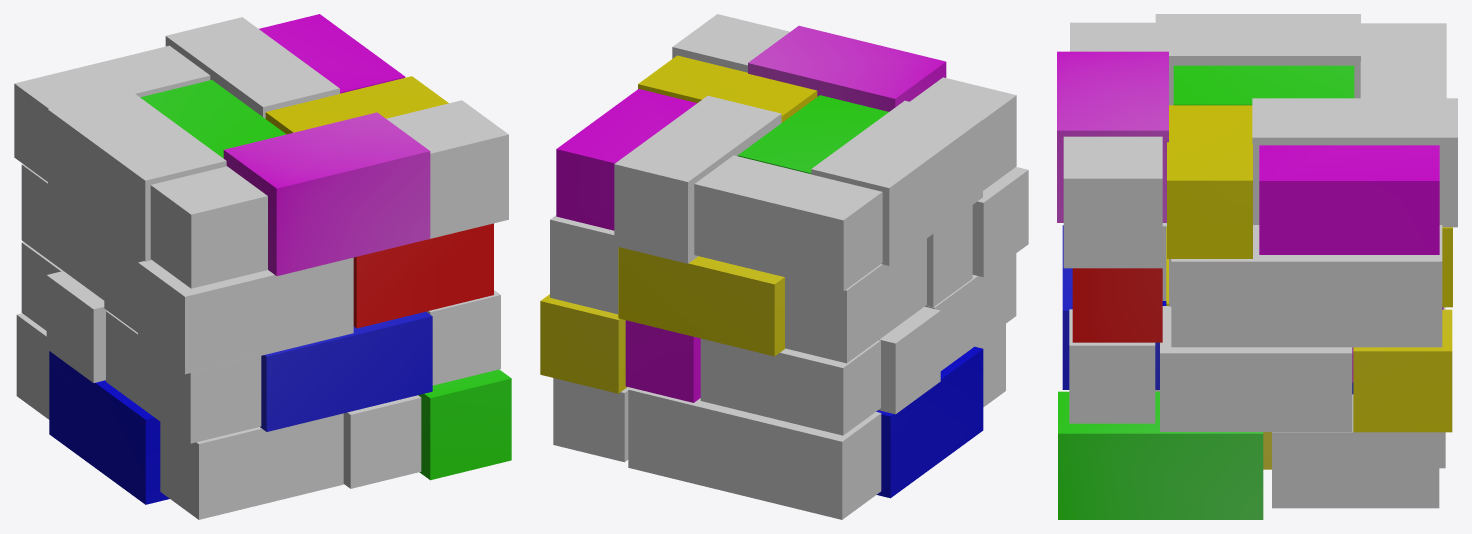
Rendered from Block1.fbx.
3 renders of one model, left to right at view 1: azimuth 30°, elevation 25°; view 2: azimuth 150°, elevation 25°; view 3: azimuth 270°, elevation 25°, orthographic. The views are drawn at different scales.
Parts seen in each view (by area): view 1: Block1.005_low, Block1.002_low, Block1.009_low, Block1.026_low, Block1.028_low, Block1.001_low, Block1.027_low, Block1.006_low, Block1.007_low, Block1.020_low, Block1.010_low, Block1.014_low (+11 smaller); view 2: Block1.024_low, Block1.010_low, Block1.009_low, Block1.014_low, Block1.004_low, Block1.033_low, Block1.011_low, Block1.005_low, Block1.020_low, Block1.016_low, Block1.022_low, Block1.015_low (+11 smaller); view 3: Block1.008_low, Block1.016_low, Block1.018_low, Block1.021_low, Block1.006_low, Block1_low, Block1.023_low, Block1.014_low, Block1.009_low, Block1.005_low, Block1.022_low, Block1.017_low (+6 smaller).
Part boxes in pixels (left/top/right/bottom): Block1.005_low: left=223, top=112, right=430, bottom=275; Block1.002_low: left=138, top=257, right=353, bottom=374; Block1.009_low: left=48, top=89, right=226, bottom=261; Block1.026_low: left=260, top=311, right=432, bottom=431; Block1.028_low: left=160, top=413, right=343, bottom=519; Block1.001_low: left=150, top=166, right=267, bottom=288; Block1.027_low: left=106, top=310, right=261, bottom=443; Block1.006_low: left=386, top=100, right=508, bottom=238; Block1.007_low: left=353, top=223, right=493, bottom=328; Block1.020_low: left=49, top=351, right=169, bottom=504; Block1.010_low: left=14, top=45, right=210, bottom=181; Block1.014_low: left=165, top=17, right=339, bottom=118; Block1.024_low: left=628, top=387, right=881, bottom=519; Block1.010_low: left=694, top=155, right=882, bottom=291; Block1.009_low: left=811, top=100, right=982, bottom=265; Block1.014_low: left=614, top=95, right=781, bottom=263; Block1.004_low: left=618, top=247, right=785, bottom=356; Block1.033_low: left=700, top=338, right=880, bottom=435; Block1.011_low: left=785, top=238, right=926, bottom=363; Block1.005_low: left=748, top=25, right=946, bottom=111; Block1.020_low: left=876, top=346, right=983, bottom=498; Block1.016_low: left=556, top=89, right=696, bottom=230; Block1.022_low: left=540, top=294, right=627, bottom=393; Block1.015_low: left=737, top=95, right=888, bottom=173; Block1.008_low: left=1171, top=225, right=1442, bottom=347; Block1.016_low: left=1259, top=145, right=1439, bottom=254; Block1.018_low: left=1058, top=391, right=1263, bottom=519; Block1.021_low: left=1160, top=306, right=1352, bottom=431; Block1.006_low: left=1063, top=136, right=1162, bottom=268; Block1_low: left=1167, top=105, right=1252, bottom=258; Block1.023_low: left=1272, top=394, right=1439, bottom=508; Block1.014_low: left=1252, top=98, right=1457, bottom=227; Block1.009_low: left=1155, top=14, right=1360, bottom=105; Block1.005_low: left=1057, top=51, right=1168, bottom=222; Block1.022_low: left=1353, top=309, right=1452, bottom=432; Block1.017_low: left=1069, top=309, right=1155, bottom=423.
Size of the model in its own units: 1.03 by 0.9893 by 1.03.
